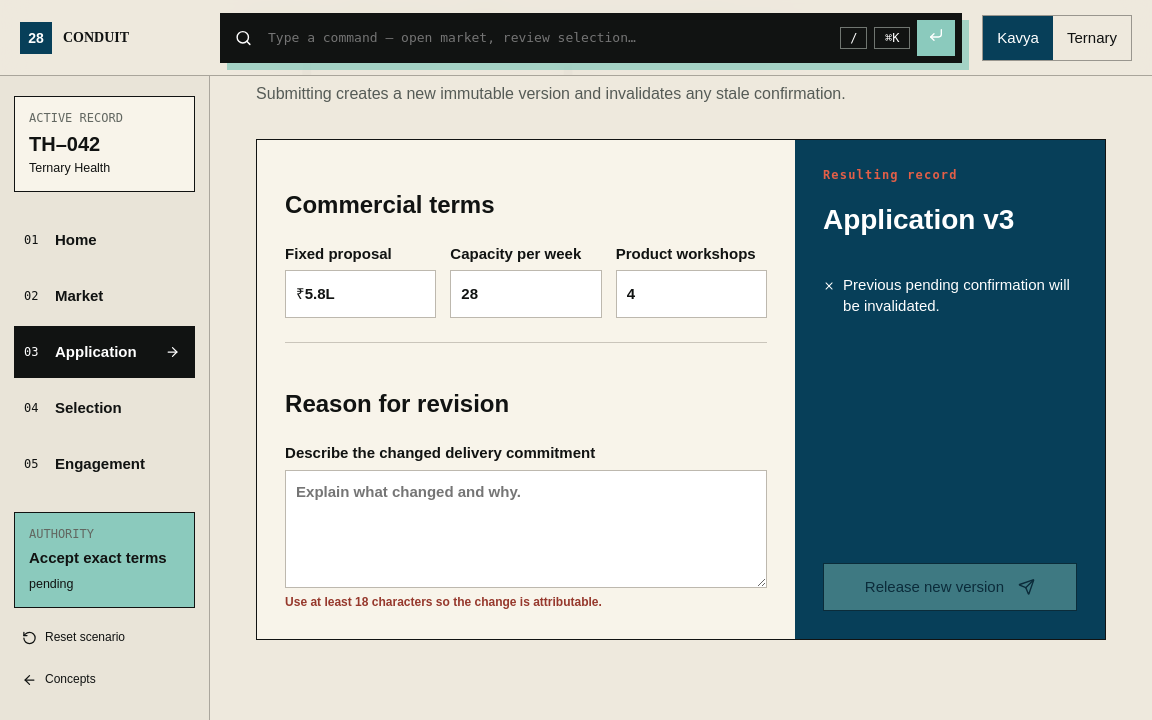
Test: Command × Current concept interactions › shows proposal revision invalidation in Conduit's exact record
(page scrolled)
Type "Increase workshops and preserve delivery capacity." into the text box labelled "Describe the changed delivery commitment" at (526, 529), box [285,470,767,588]
(page scrolled)
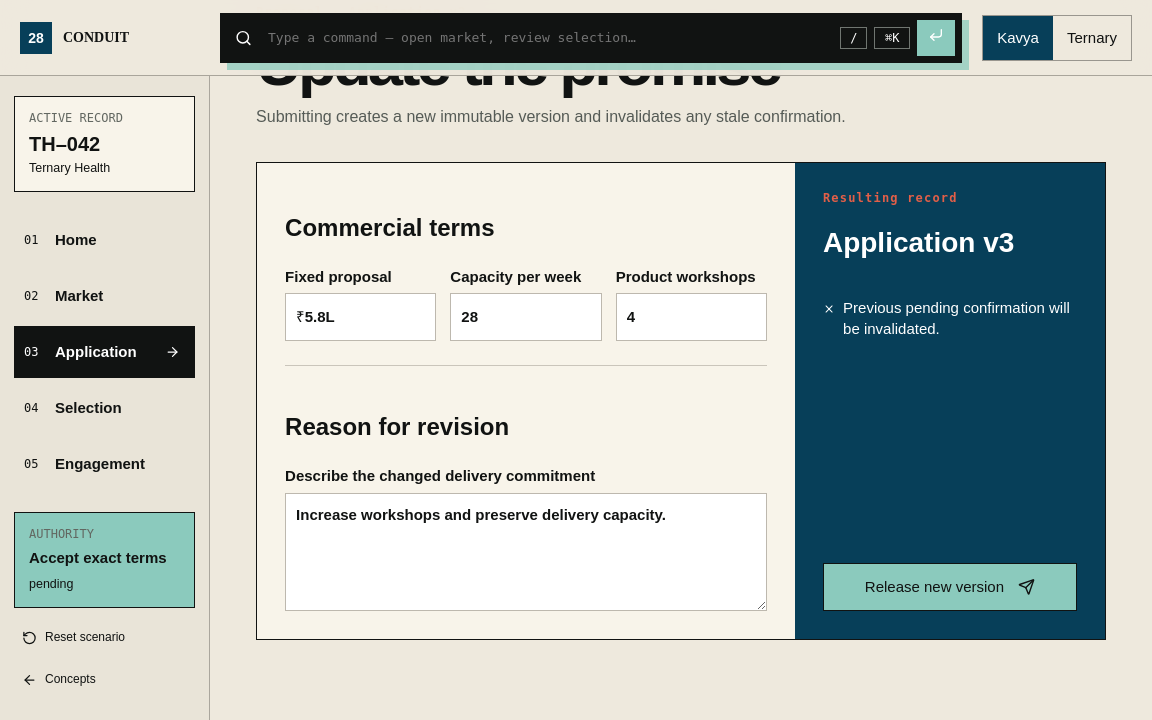
Click the button "Release new version" at (950, 587), box [823,563,1077,611]
(page scrolled)
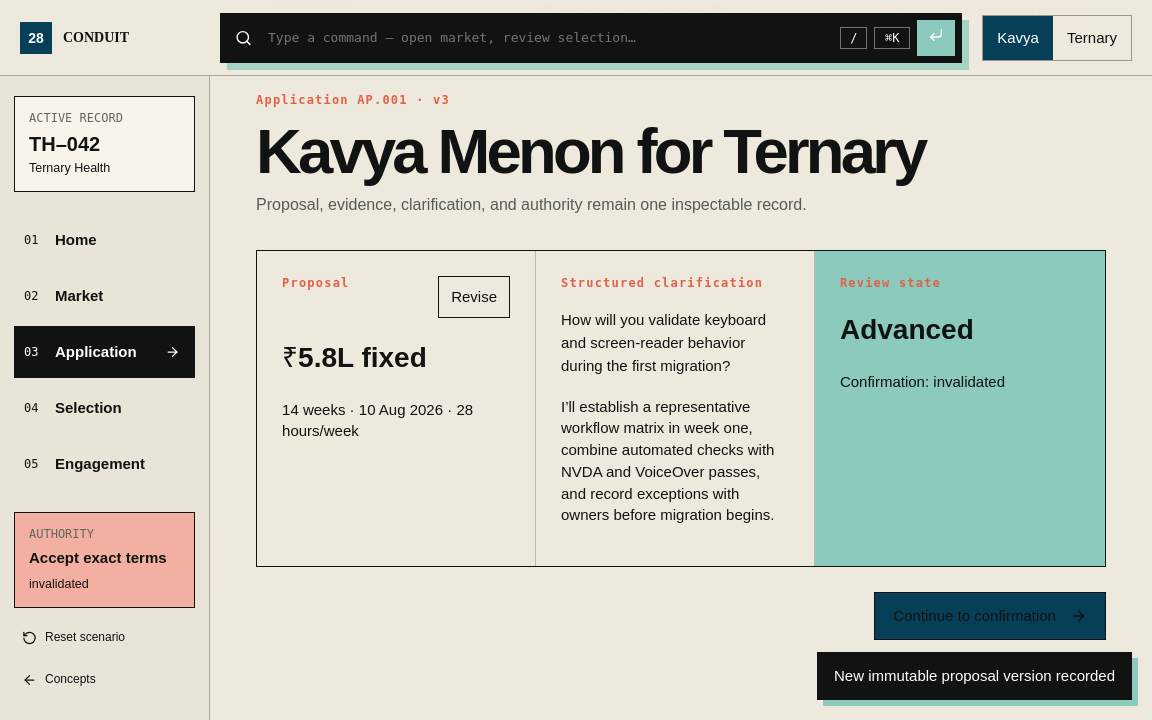
Expected: the heading "Kavya Menon for Ternary" is shown, [256,116,924,186]
Click the button "04 Selection" at (104, 408), box [14,382,195,434]
(page scrolled)
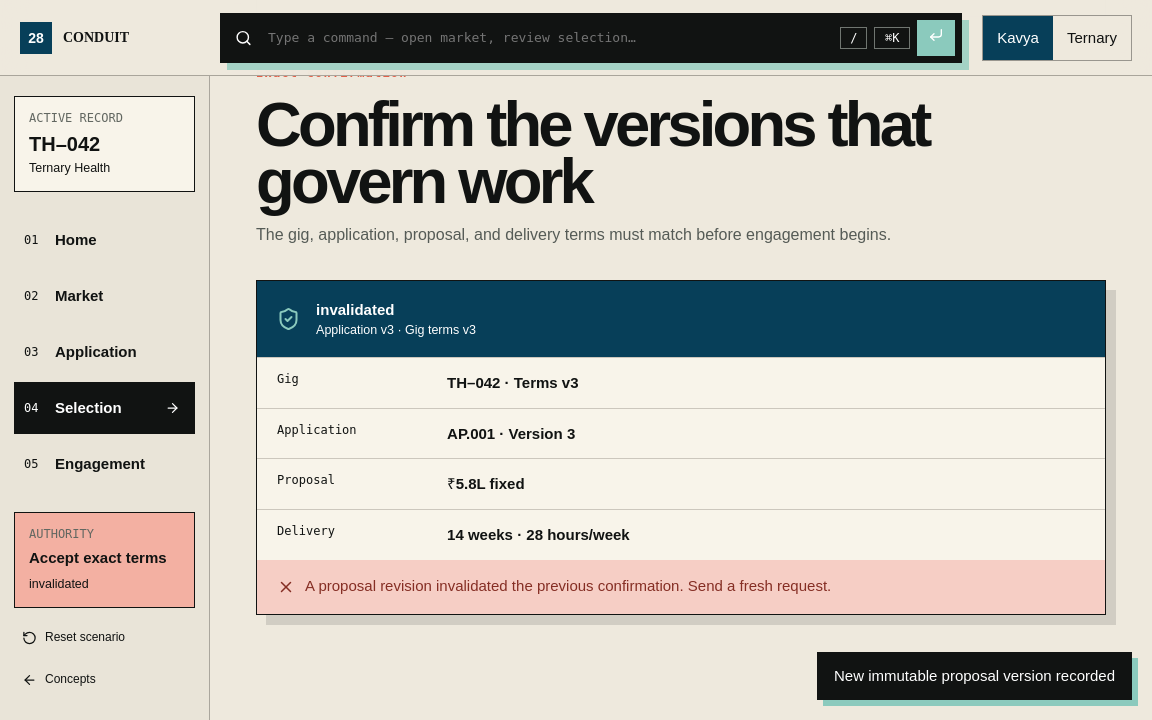
Expected: the text "proposal revision invalidated the previous confirmation" is shown, [305,577,831,594]
